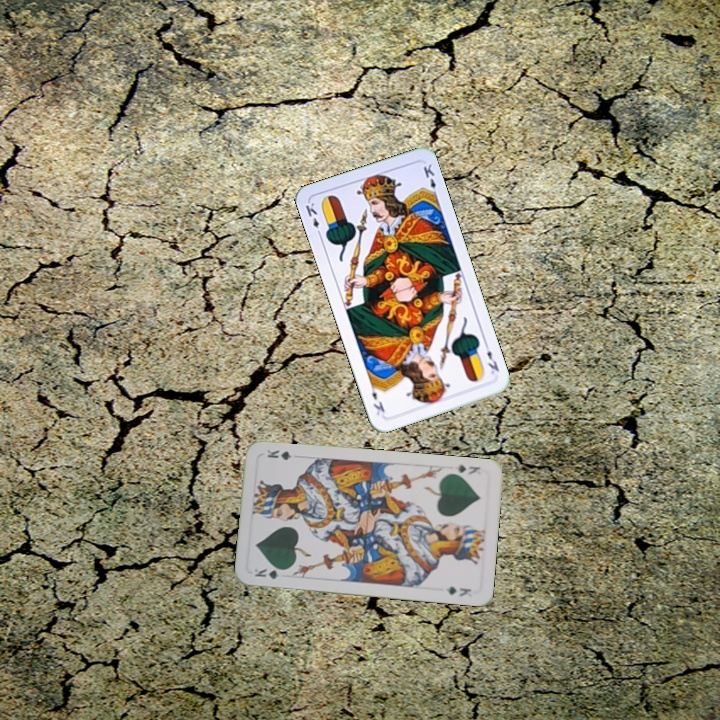EK: (301, 198, 324, 239), (480, 339, 502, 377)
GK: (250, 564, 290, 582), (453, 461, 483, 478)
